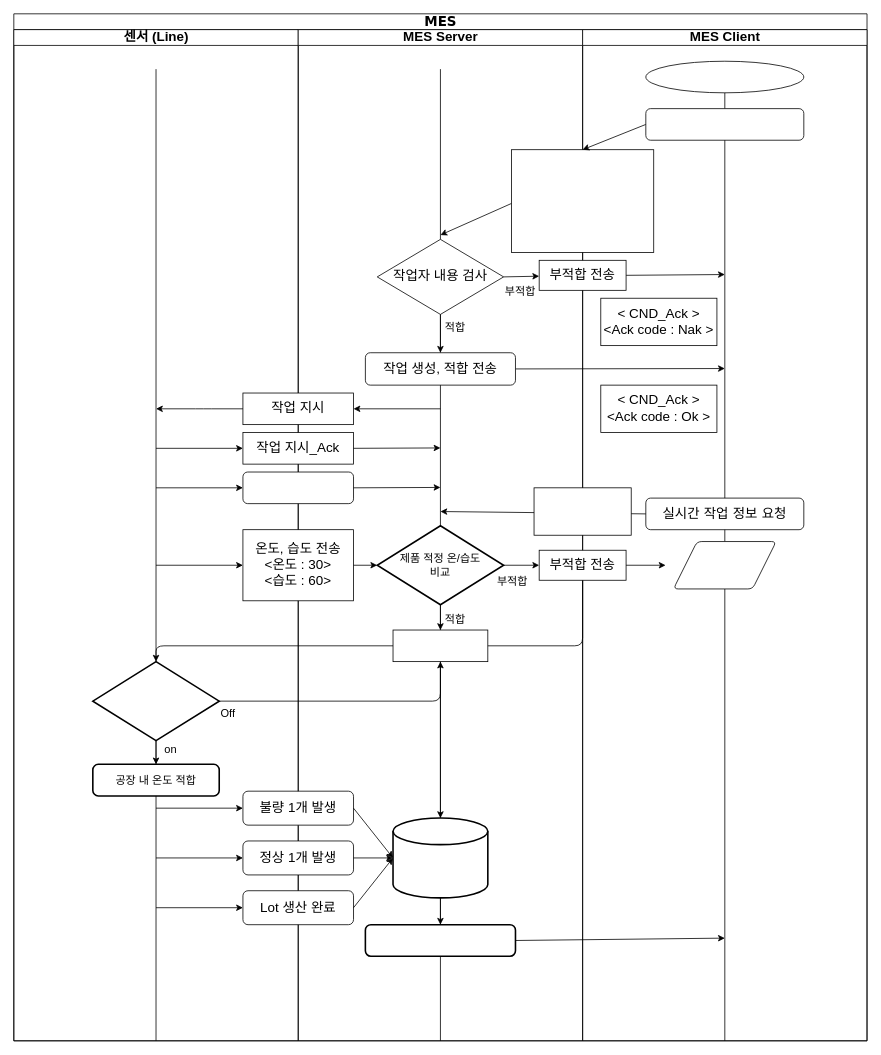
Some shapes in this 881 by 1055 pixel diagram are drawn without their labels. Each missing label, with the box of its shape:
< GND : 작업지시 > < Line#id : > < Lot ID : > < 제품 이름 : > < 생산 수량 : >: (511, 149, 654, 252)
C/V on, off: (92, 660, 220, 741)
DB Wrtie: (392, 817, 488, 898)
Lot 생산 시작: (242, 471, 354, 504)
Lot 작업 지시 작성: (645, 60, 804, 93)
RP 작업 데이터 전송: (364, 924, 516, 957)
공장 내 환경 조절: (392, 629, 488, 662)
온/습도 데이터 출력: (673, 541, 776, 589)
작업 지시 전송: (645, 108, 804, 140)
제품 적정 온/습도: (533, 487, 631, 535)
